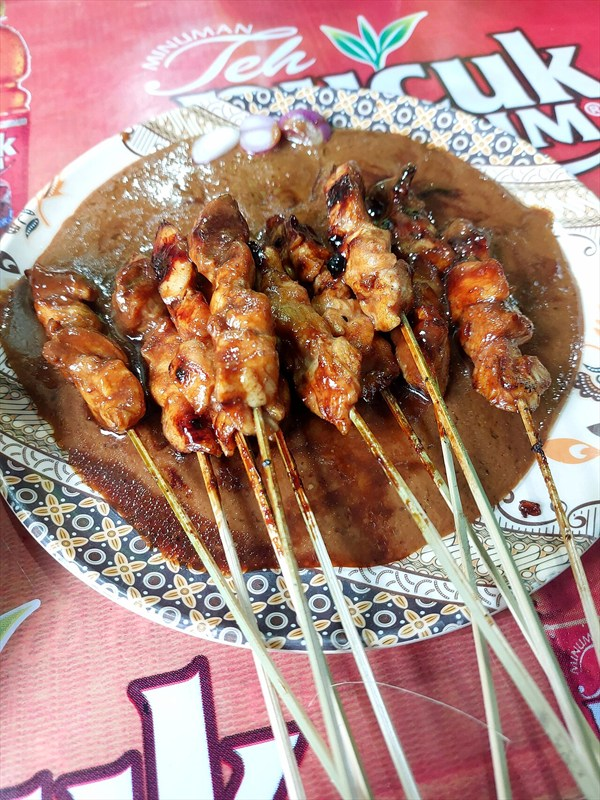Sate Ayam: (106, 185, 494, 648)
